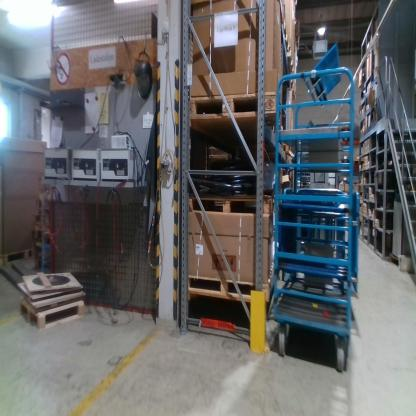pallet: (186, 261, 274, 304), (189, 90, 284, 125), (188, 193, 273, 219), (20, 300, 86, 332), (2, 245, 35, 267)
